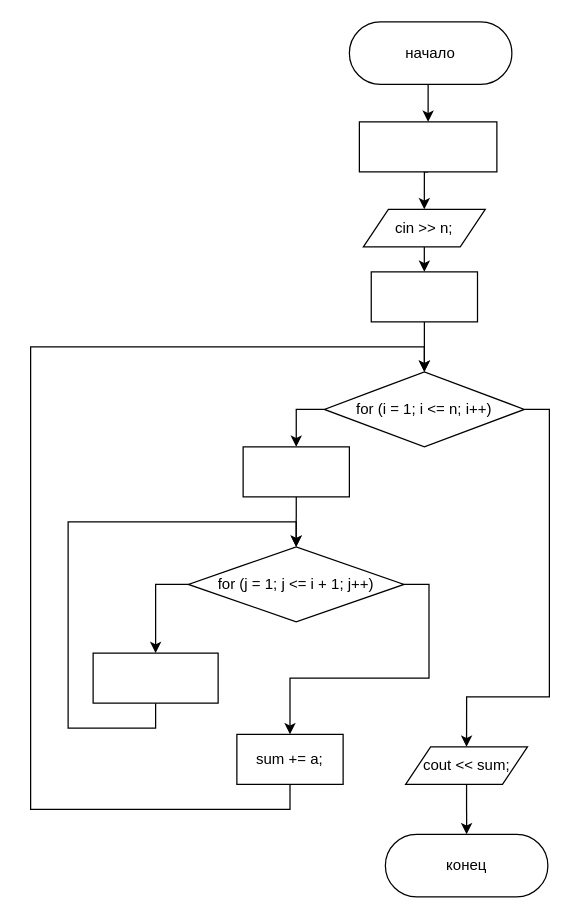
Some shapes in this 581 by 919 pixel diagram are drawn without their labels. Each missing label, with the centre of its shape:
a = 1;: point 295,471
a = a * (i + j - 1);: point 155,677
int i, n, sum, j, a;: point 427,146
sum = 0;: point 424,296
